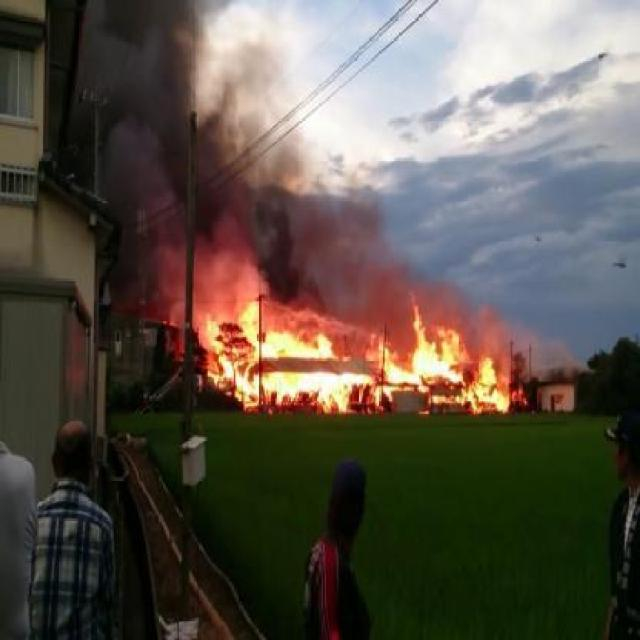Fire: (194, 306, 531, 434)
Smoke: (52, 2, 316, 329), (278, 205, 440, 320)
